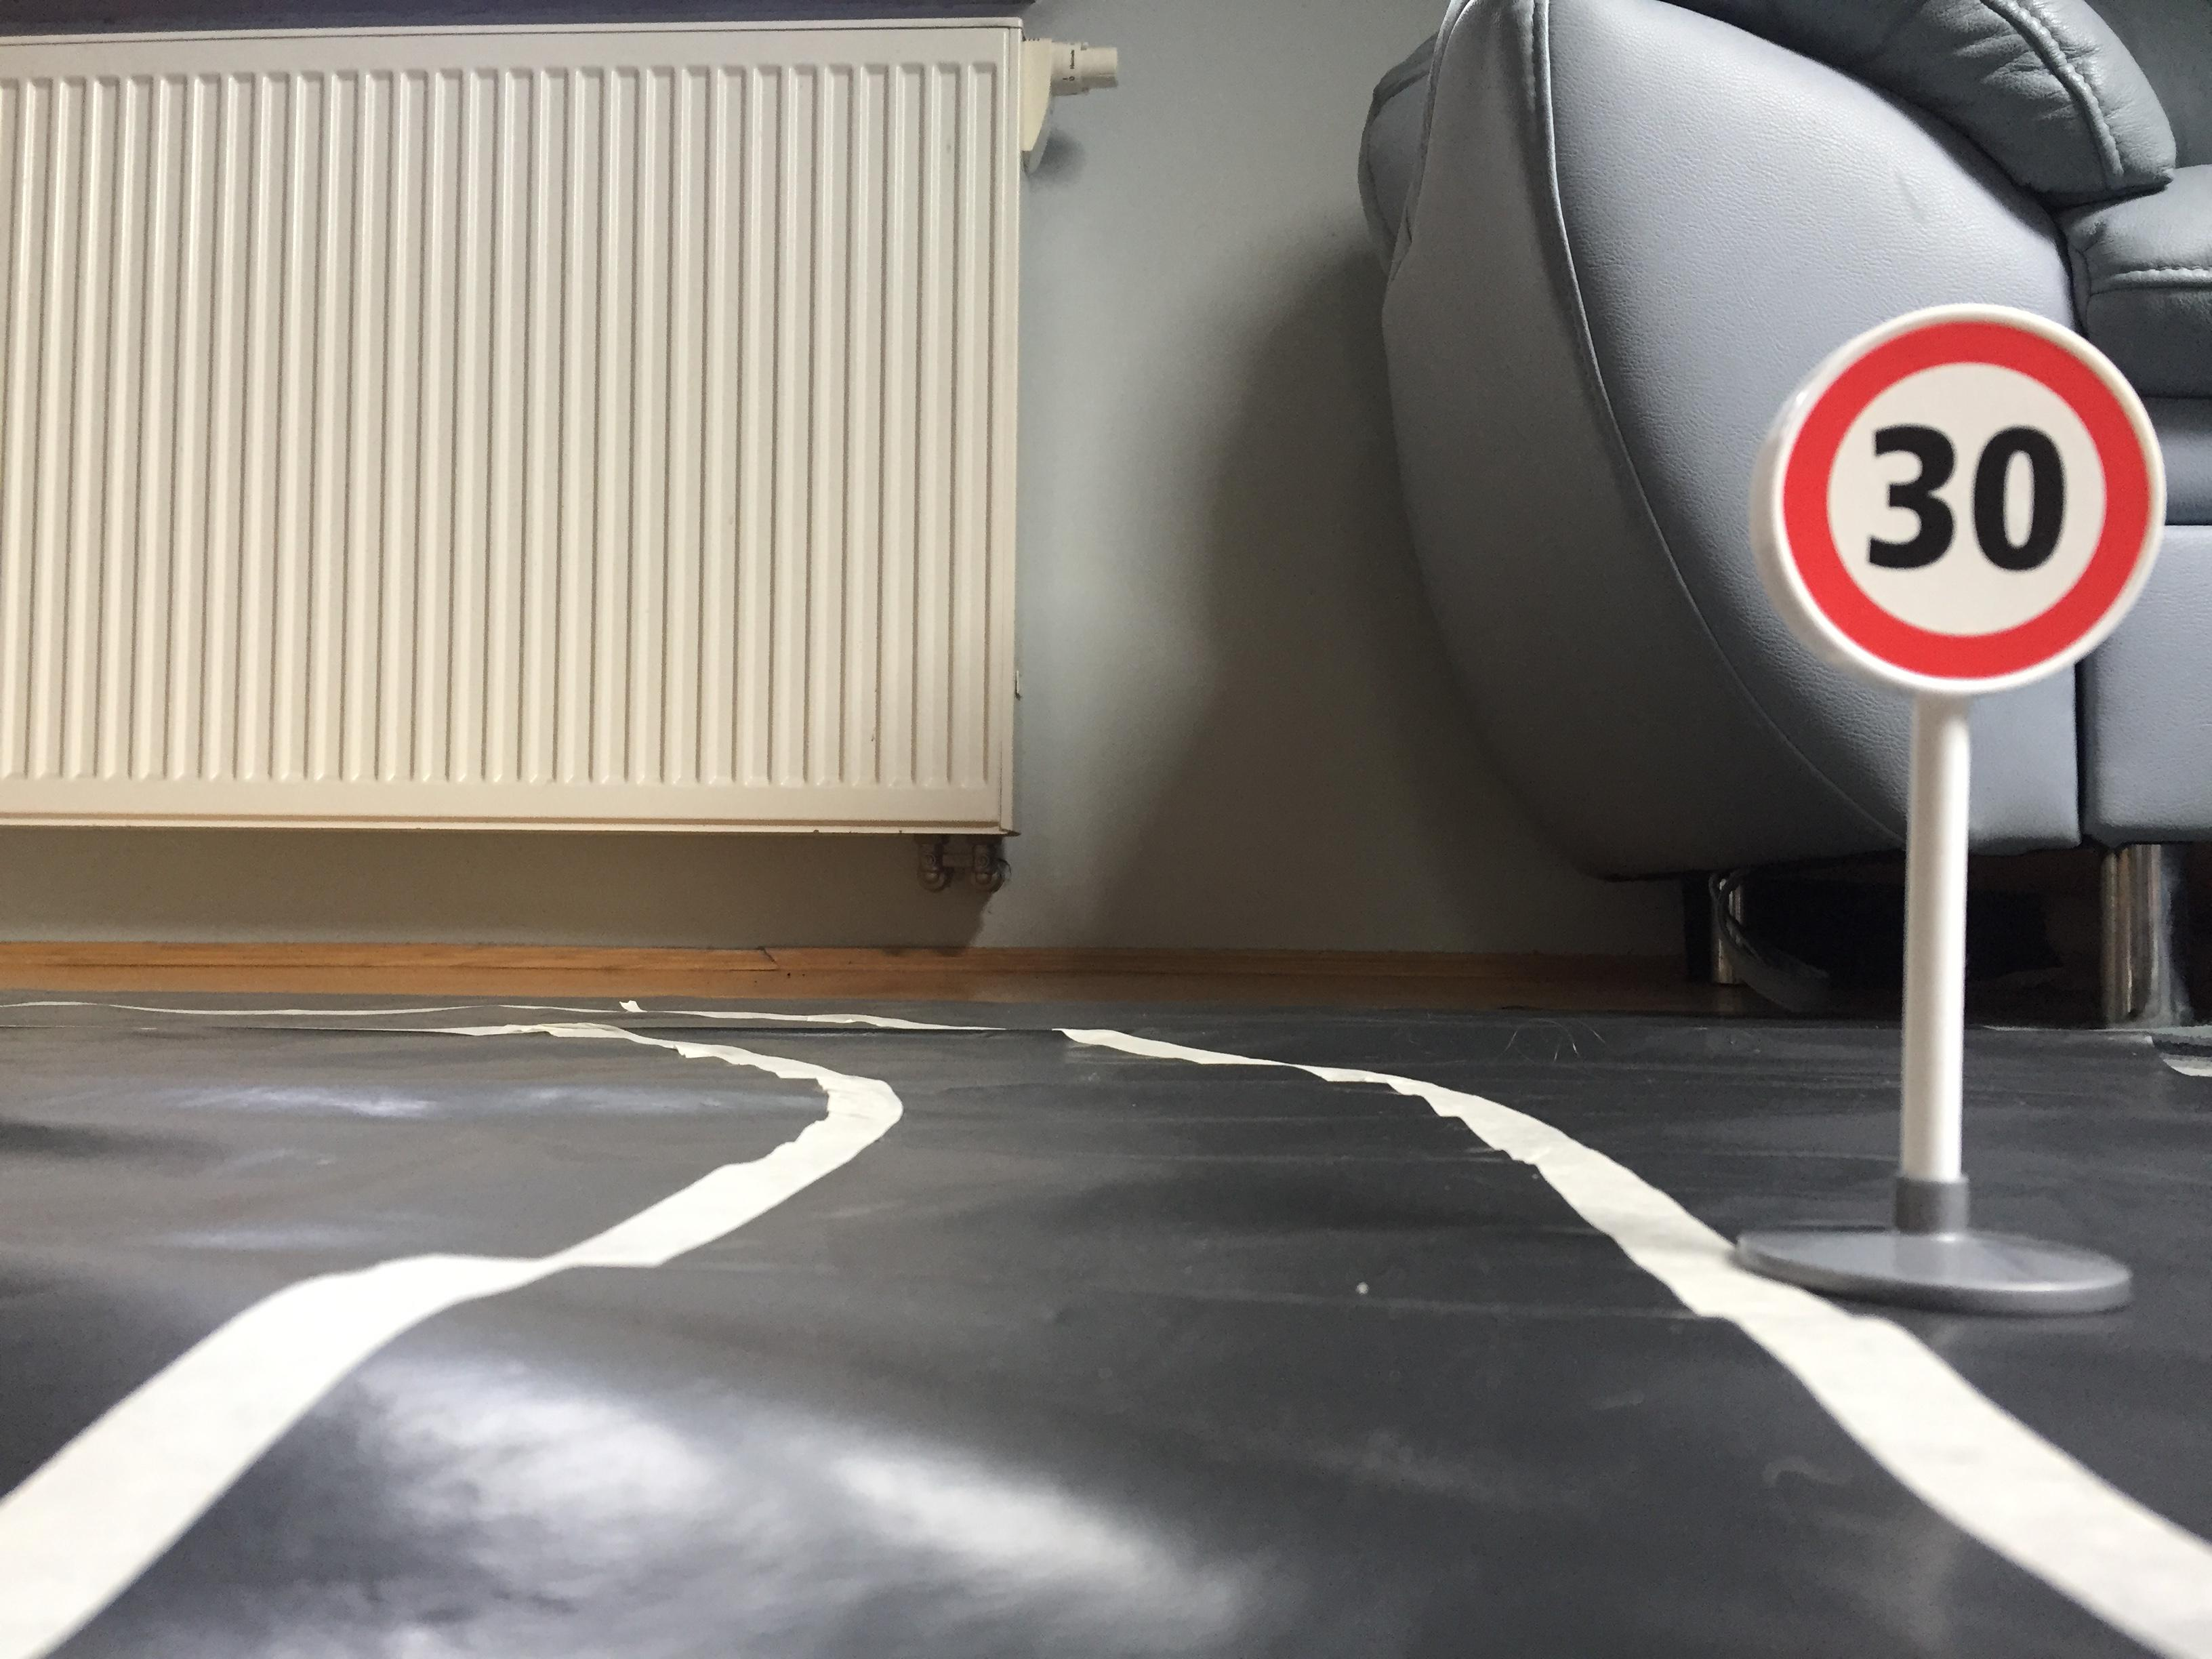speed: (1738, 293, 2172, 708)
